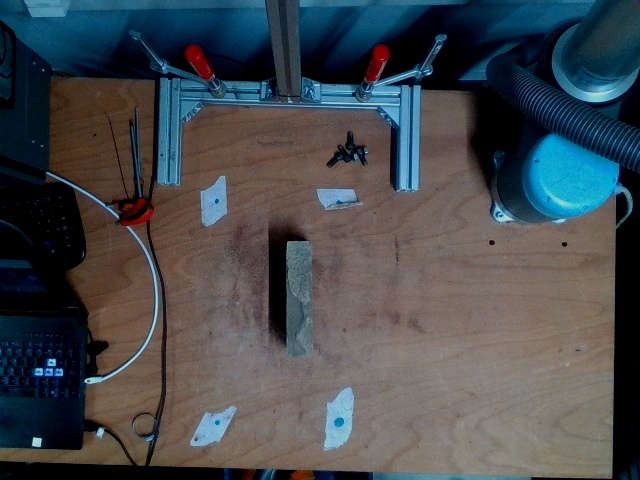brick-side: (285, 241, 310, 356)
